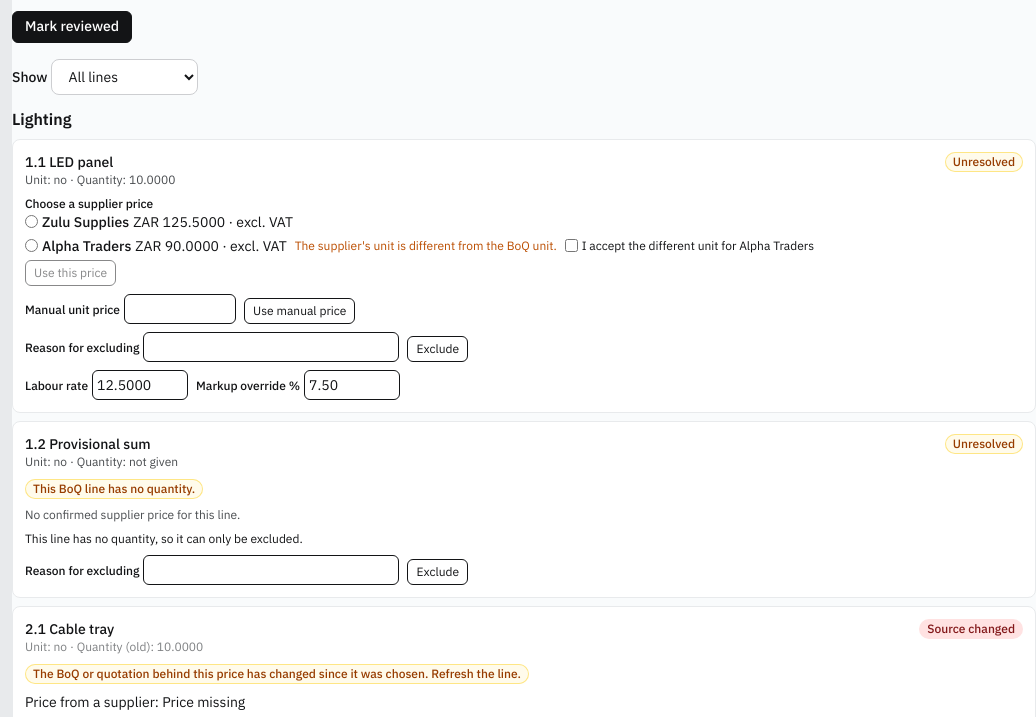
Test: line controls › sends nothing for invalid labour or markup text
The image size is (1036, 717).
(page scrolled)
Expected: the text "1.1 LED panel" is shown, [25,152,113,172]
Replace the text in the field labelled "Labour rate" with "1.23456" at coordinates (140, 384), box [92,370,188,400]
Click the radio button labelled "Zulu Supplies ZAR 125.5000 · excl. VAT" at coordinates (32, 222), box [25,215,38,228]
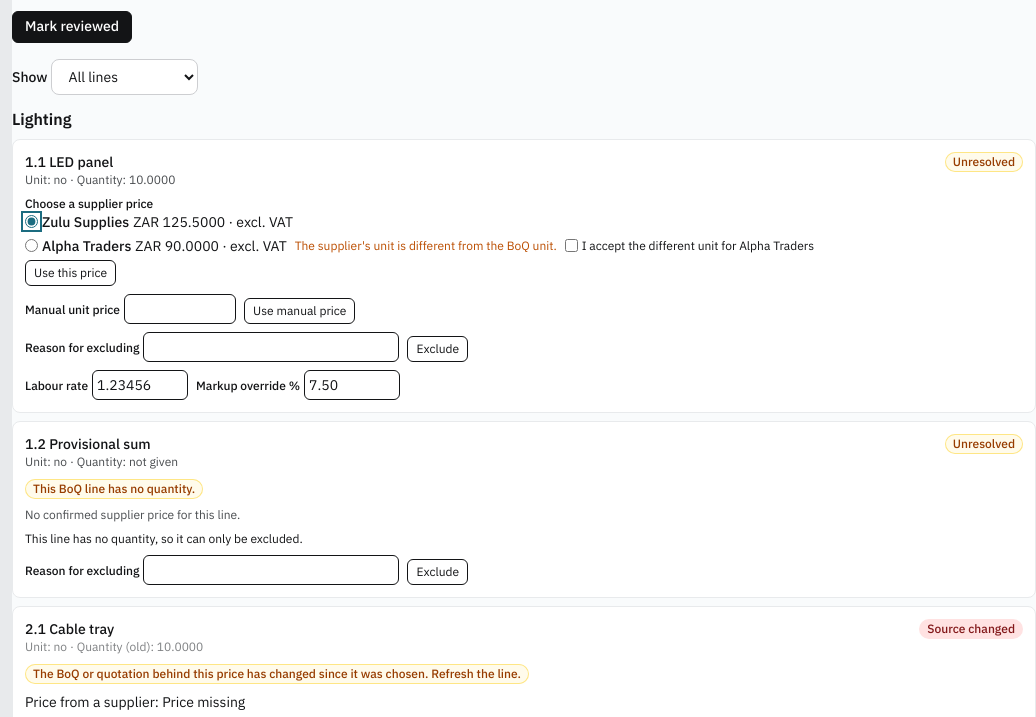
Click the button "Use this price" at coordinates (70, 272), box [25,260,116,286]
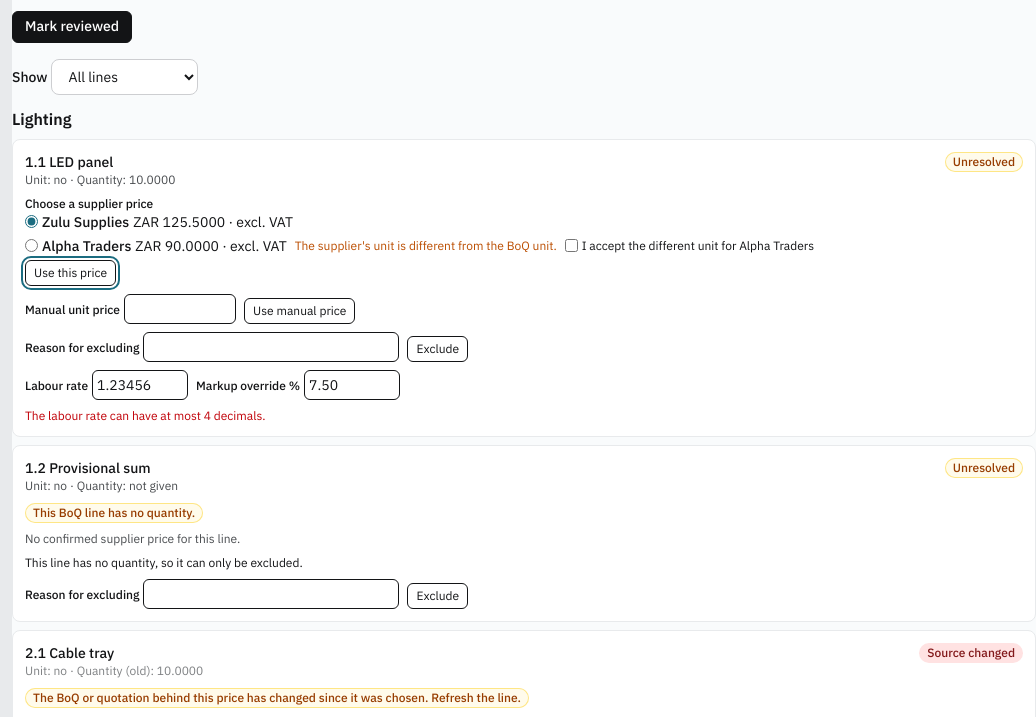
Expected: the message shows "labour rate", [25,408,266,422]
Replace the text in the field labelled "Labour rate" with "5" at coordinates (140, 384), box [92,370,188,400]
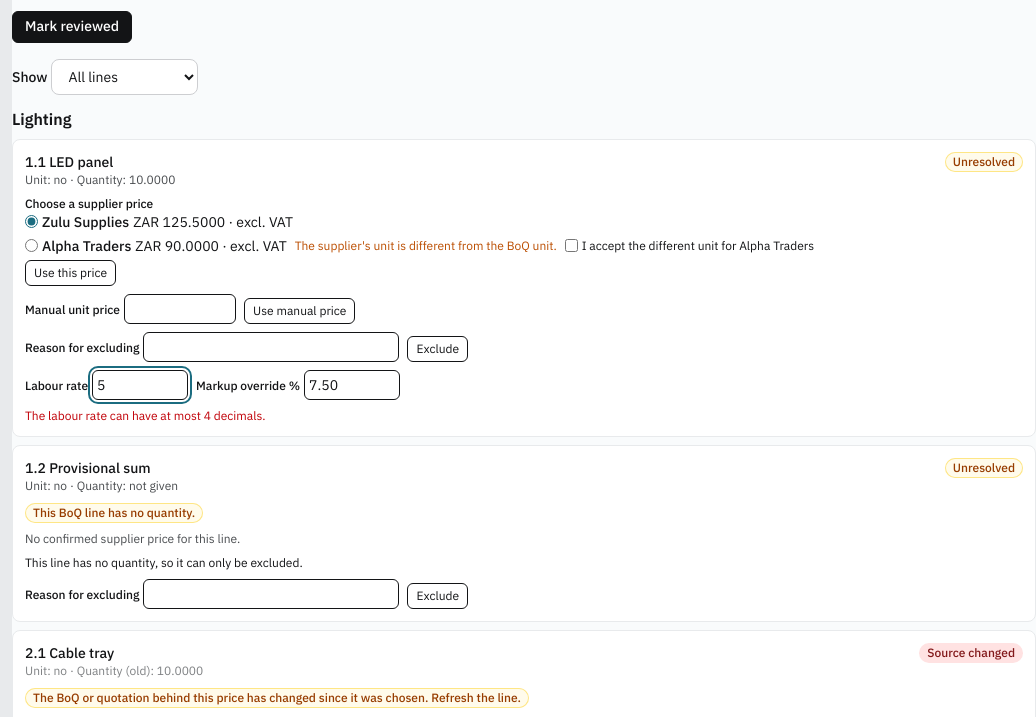
Replace the text in the field labelled "Markup override %" with "1001" at coordinates (352, 384), box [304,370,400,400]
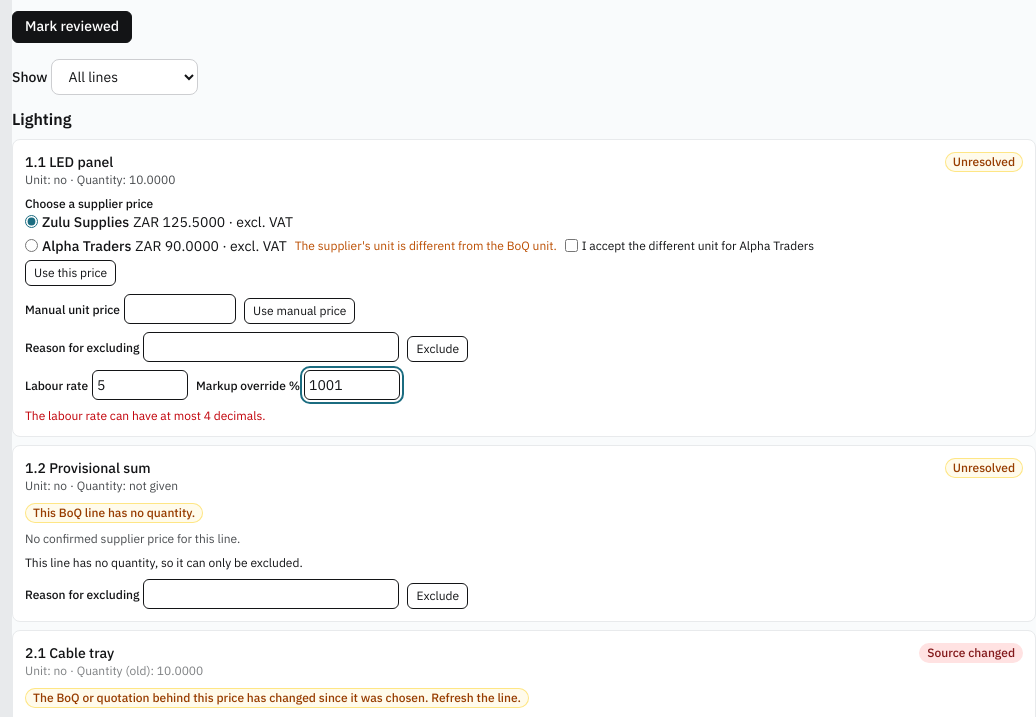
Click the radio button labelled "Zulu Supplies ZAR 125.5000 · excl. VAT" at coordinates (32, 222), box [25,215,38,228]
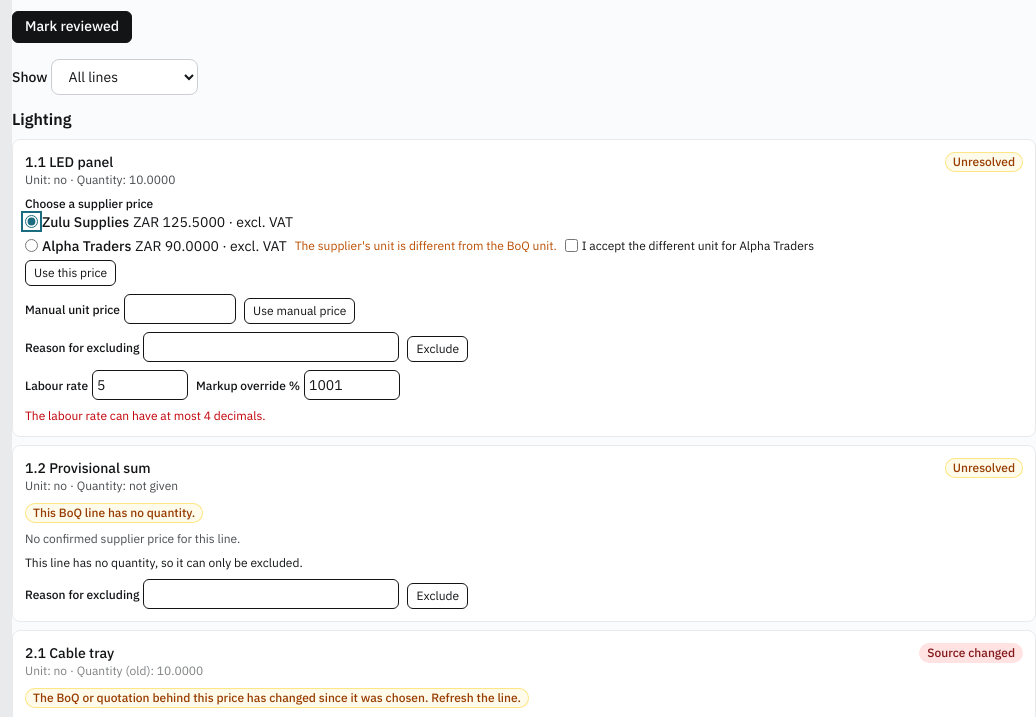
Click the button "Use this price" at coordinates (70, 272), box [25,260,116,286]
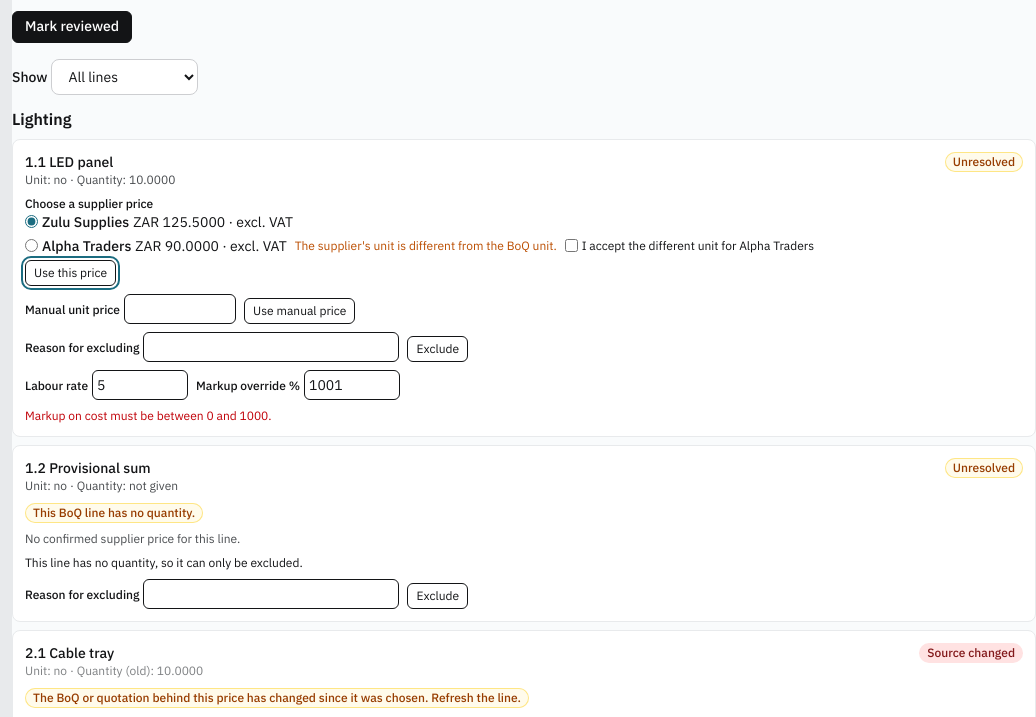
Expected: the message shows "Markup", [25,408,272,422]
